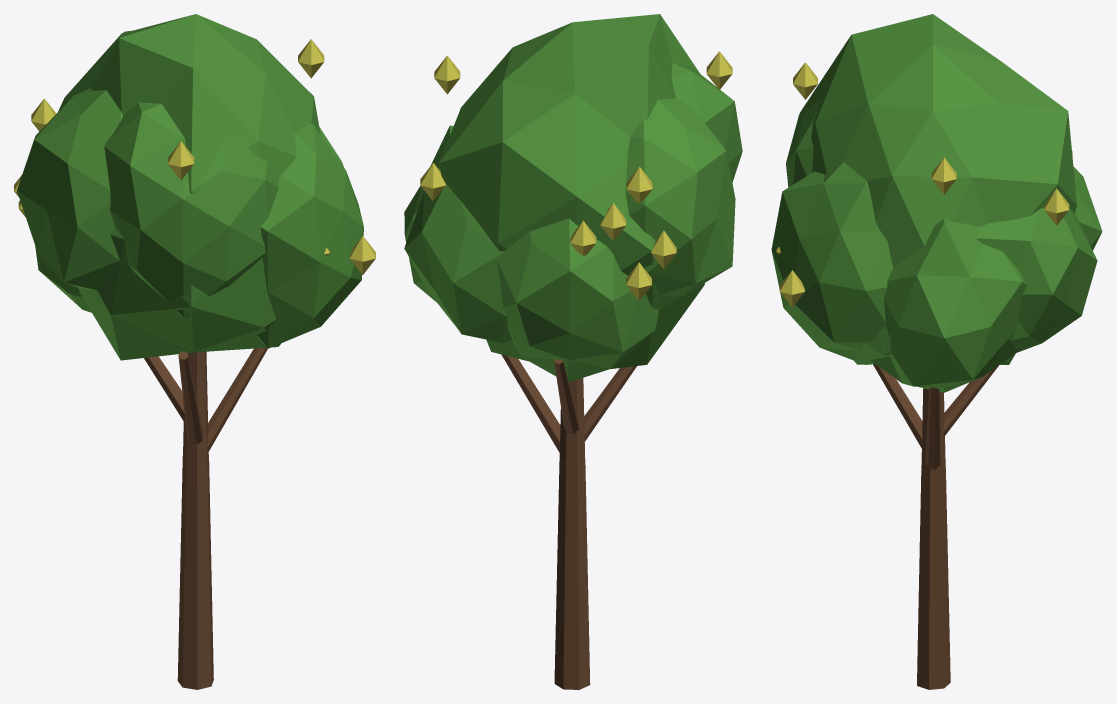
File: pear_tree.glb
3 renders of one model, left to right at view 1: azimuth 30°, elevation 25°; view 2: azimuth 150°, elevation 25°; view 3: azimuth 270°, elevation 25°, orthographic. The views are drawn at different scales.
Visible parts, largest first — view 1: pear_tree; view 2: pear_tree; view 3: pear_tree.
Part boxes in pixels (bbox=[...]): pear_tree: bbox=[14, 14, 375, 689]; pear_tree: bbox=[404, 14, 742, 689]; pear_tree: bbox=[771, 14, 1102, 689].
Size of the model in its own units: 2.15 by 4.37 by 2.05.
